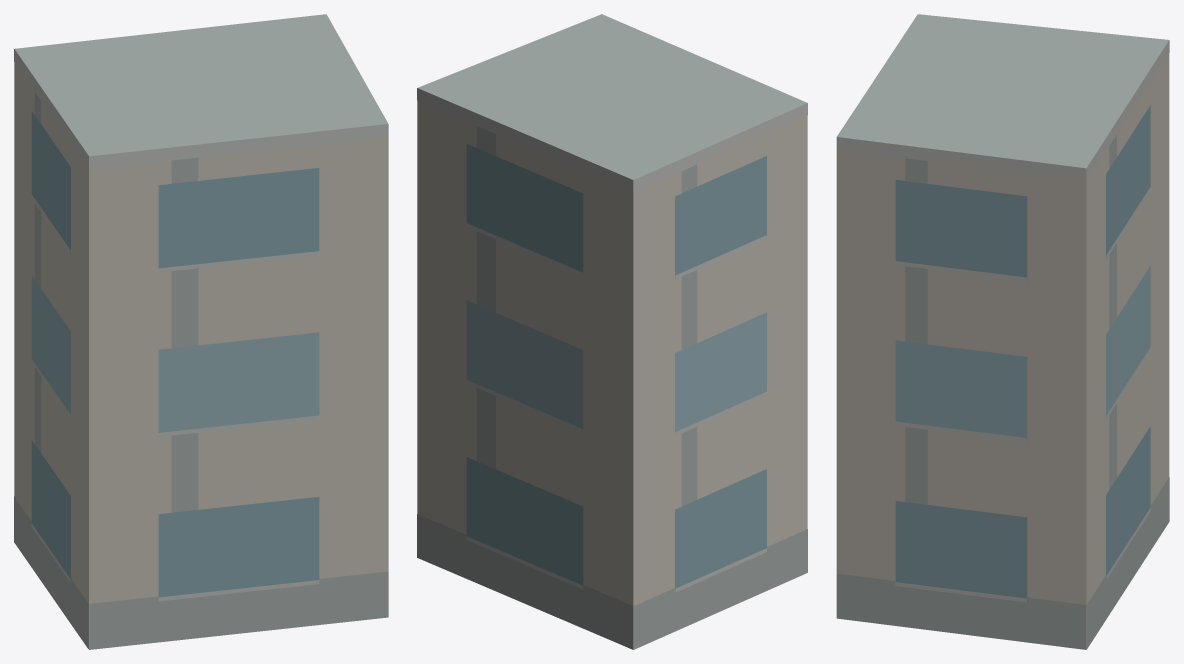
File: survey-upis-32646381.glb
3 views of the same model, side by side, from view 1: azimuth 30°, elevation 25°; view 2: azimuth 150°, elevation 25°; view 3: azimuth 270°, elevation 25° (orthographic). The views are drawn at different scales.
Visible parts, largest first — view 1: survey-upis-32646381.tmp; view 2: survey-upis-32646381.tmp; view 3: survey-upis-32646381.tmp.
Boxes of the visible parts, <box> form: survey-upis-32646381.tmp: <box>14,14,388,649</box>; survey-upis-32646381.tmp: <box>417,14,807,649</box>; survey-upis-32646381.tmp: <box>836,14,1169,649</box>.
Size of the model in its own units: 6.3 by 9.15 by 5.74.
